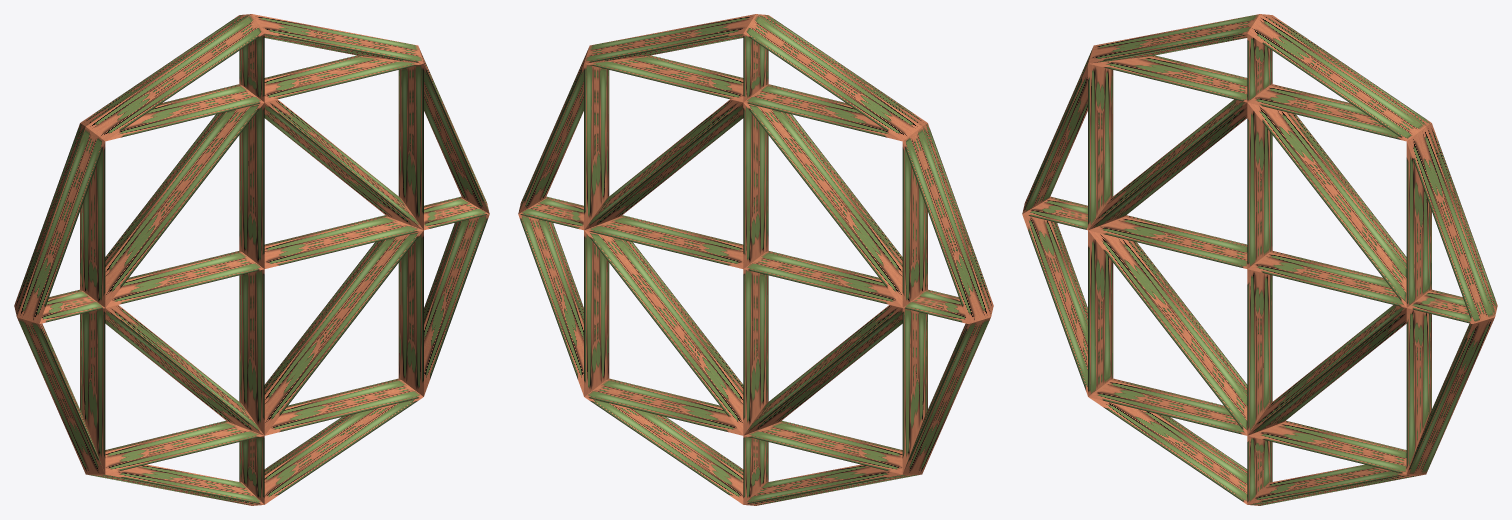
File: Symbolics08.FBX
3 renders of one model, left to right at view 1: azimuth 30°, elevation 25°; view 2: azimuth 150°, elevation 25°; view 3: azimuth 330°, elevation 25°, orthographic.
Visible parts, largest first — view 1: Symbolics08; view 2: Symbolics08; view 3: Symbolics08.
Boxes of the visible parts, x1,y1,x2,y2 form: Symbolics08: (14,14,489,505); Symbolics08: (518,14,993,505); Symbolics08: (1022,14,1497,505).
Size of the model in its own units: 31.56 by 31.56 by 2.93.
